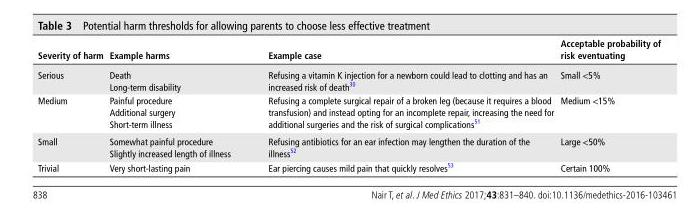table: (37, 37, 660, 173)
table column: (248, 37, 556, 173), (105, 37, 248, 173), (556, 37, 660, 173), (37, 37, 105, 173)
table column header: (37, 37, 660, 64)
table row: (37, 93, 660, 132), (37, 64, 660, 93), (37, 37, 660, 64), (37, 132, 660, 159), (37, 159, 660, 173)
